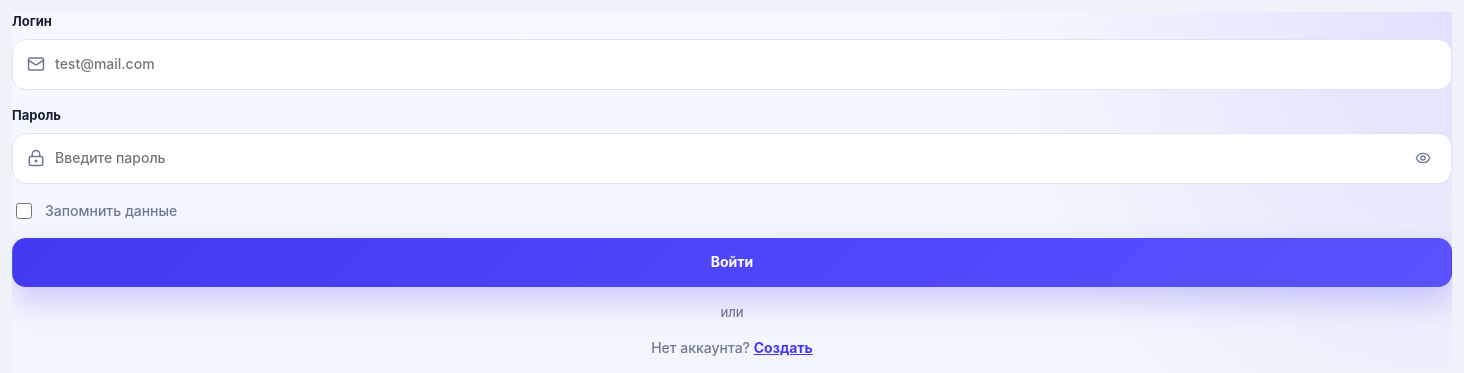
Scenario: LoginForm › should clear username when clear button is clicked
Type "emilys" into the field labelled "Логин" at (746, 64), box [55,40,1437,89]
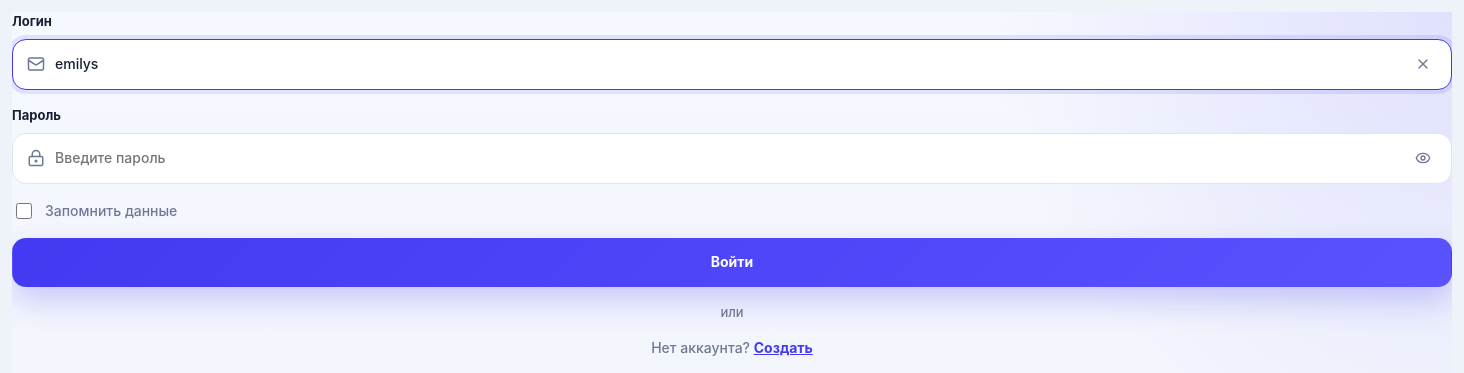
Click the button named "очистить" at (1423, 64), box [1409,50,1437,78]
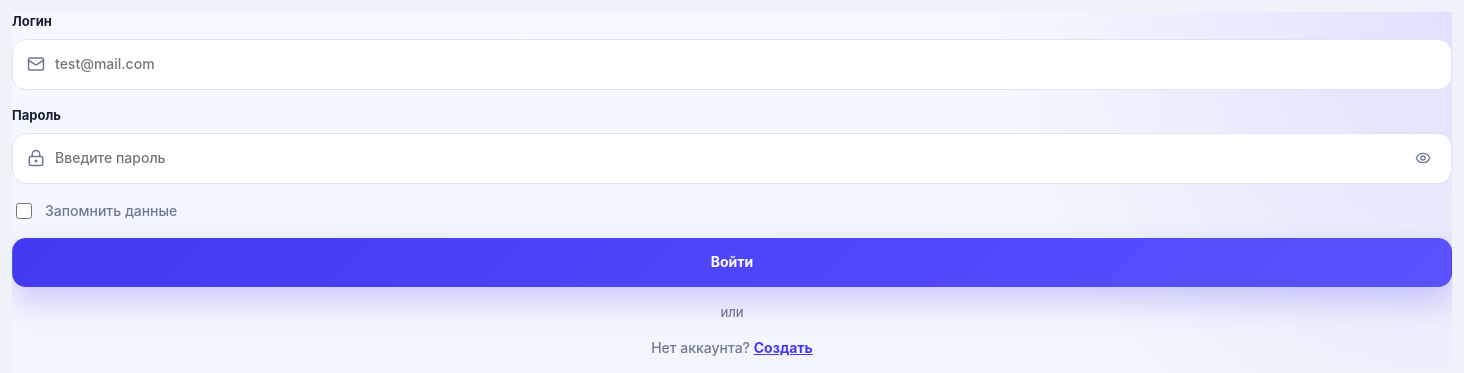
Expected: the field labelled "Логин" is empty, [55,40,1437,89]
